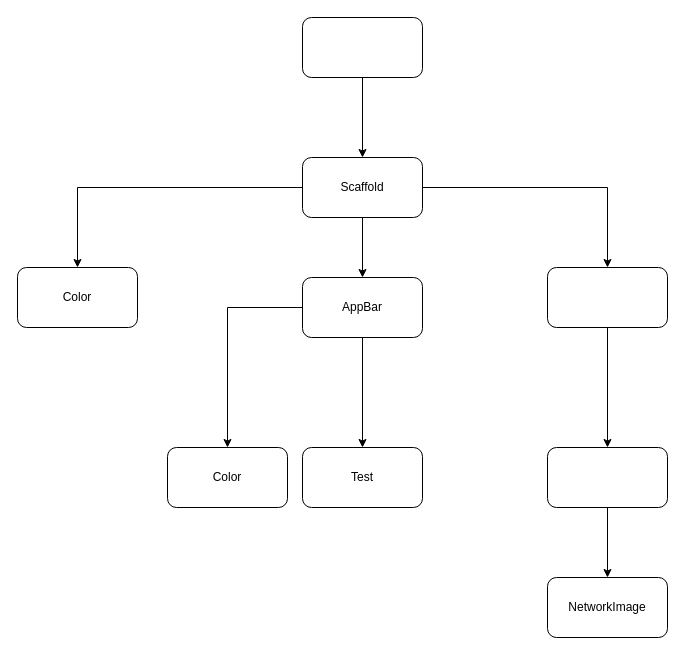
This 685x655 diagram has some shape labels left out. Each missing label, with the centre of its shape:
"Center" goes at point 607,297.
"Image" goes at point 607,477.
"Material App" goes at point 362,47.
